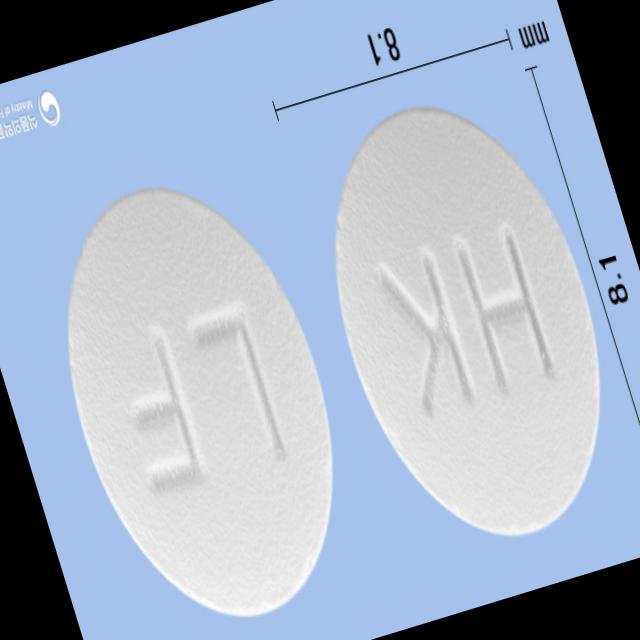Levotacin: (286, 77, 640, 572), (20, 159, 380, 640)
